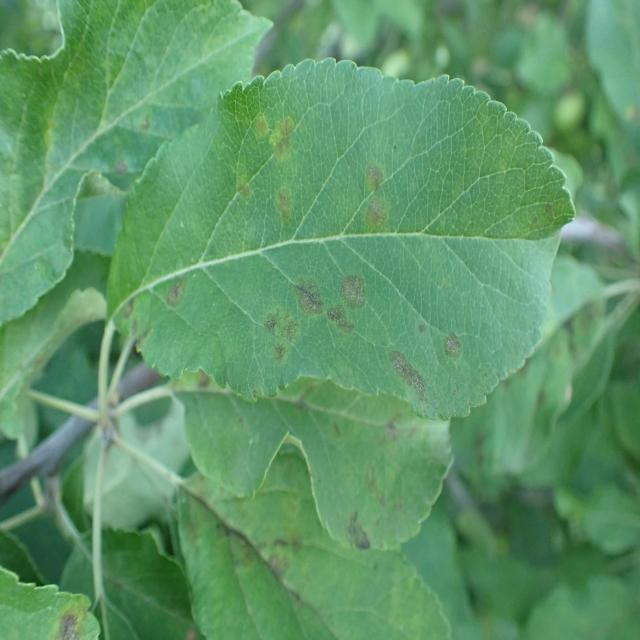scab: (101, 98, 541, 410), (110, 427, 483, 630)
